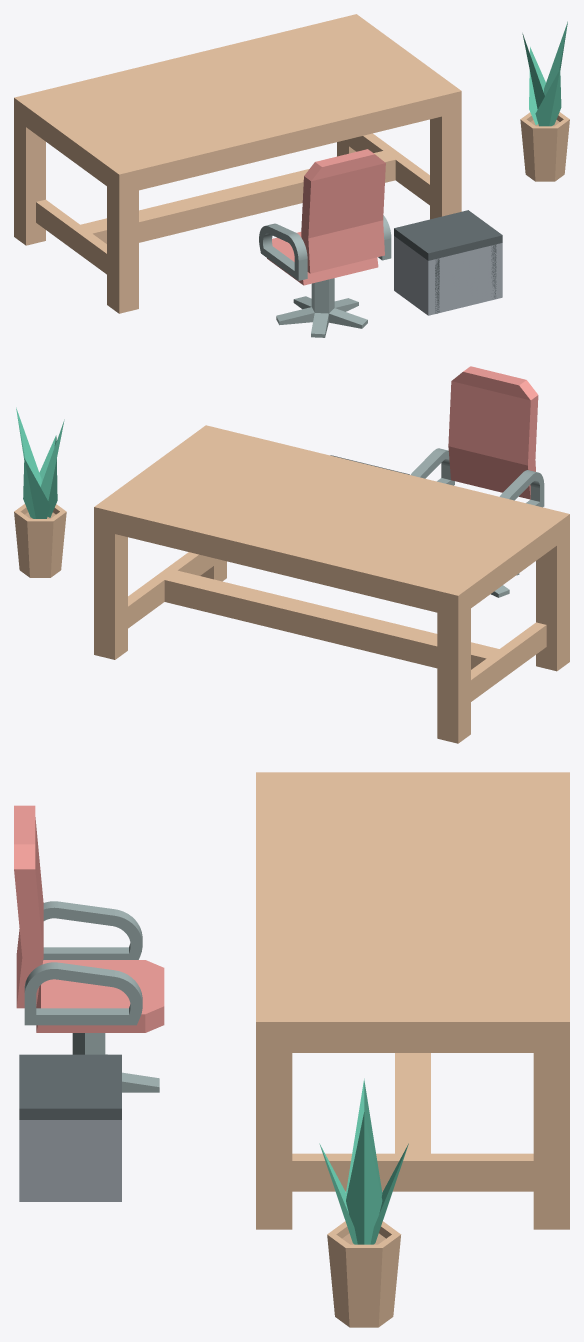
3 views of the same model, one above another, from view 1: azimuth 30°, elevation 25°; view 2: azimuth 150°, elevation 25°; view 3: azimuth 270°, elevation 25° (orthographic). The views are drawn at different scales.
Visible parts, largest first — view 1: table_green__table(Clone), deskchair_black__chair, crate_red__crate_red shell, crate_red__crate_red lid, plant_pink__pottedPlant(Clone), deskchair_black__chairDesk(Clone), plant_pink__plant, crate_red__crate_red band; view 2: table_green__table(Clone), deskchair_black__chair, plant_pink__pottedPlant(Clone), plant_pink__plant; view 3: table_green__table(Clone), deskchair_black__chair, crate_red__crate_red shell, crate_red__crate_red lid, plant_pink__pottedPlant(Clone), plant_pink__plant, deskchair_black__chairDesk(Clone).
Part boxes in pixels (x1,y1,x2,y2): table_green__table(Clone): (14, 14, 461, 313); deskchair_black__chair: (259, 149, 391, 285); crate_red__crate_red shell: (394, 236, 502, 315); crate_red__crate_red lid: (394, 210, 502, 260); plant_pink__pottedPlant(Clone): (520, 112, 569, 181); deskchair_black__chairDesk(Clone): (276, 278, 367, 337); plant_pink__plant: (522, 21, 567, 126); crate_red__crate_red band: (402, 225, 439, 313); table_green__table(Clone): (94, 425, 569, 743); deskchair_black__chair: (411, 366, 544, 507); plant_pink__pottedPlant(Clone): (14, 504, 66, 577); plant_pink__plant: (16, 407, 64, 518); table_green__table(Clone): (256, 772, 569, 1229); deskchair_black__chair: (14, 805, 164, 1032); crate_red__crate_red shell: (19, 1120, 121, 1201); crate_red__crate_red lid: (19, 1054, 121, 1119); plant_pink__pottedPlant(Clone): (327, 1221, 401, 1327); plant_pink__plant: (319, 1078, 408, 1244); deskchair_black__chairDesk(Clone): (72, 1033, 159, 1092).
Bounding box in the file's own units: 2.74 × 0.95 × 1.82.
